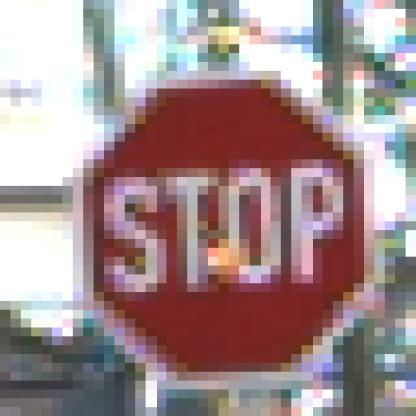stop: (87, 76, 378, 388)
